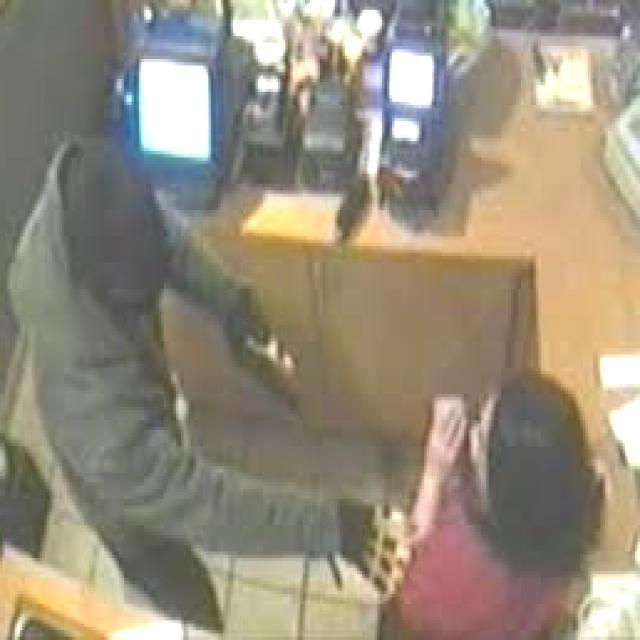pistol: (216, 289, 310, 400)
